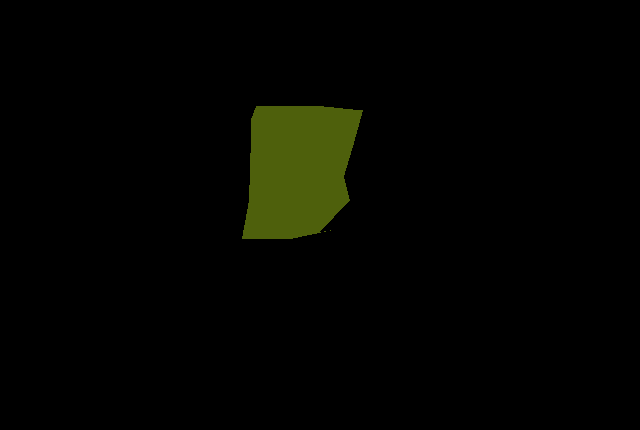Train: (242, 106, 362, 239)
